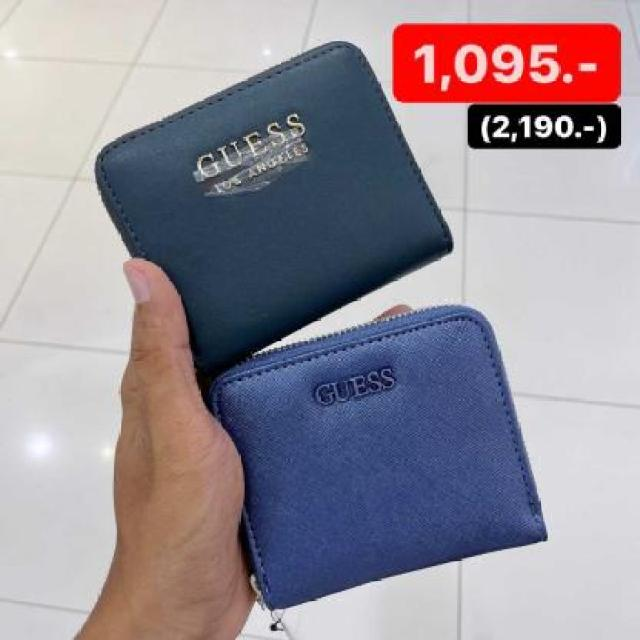Bag: (66, 47, 519, 367), (180, 303, 592, 609)
